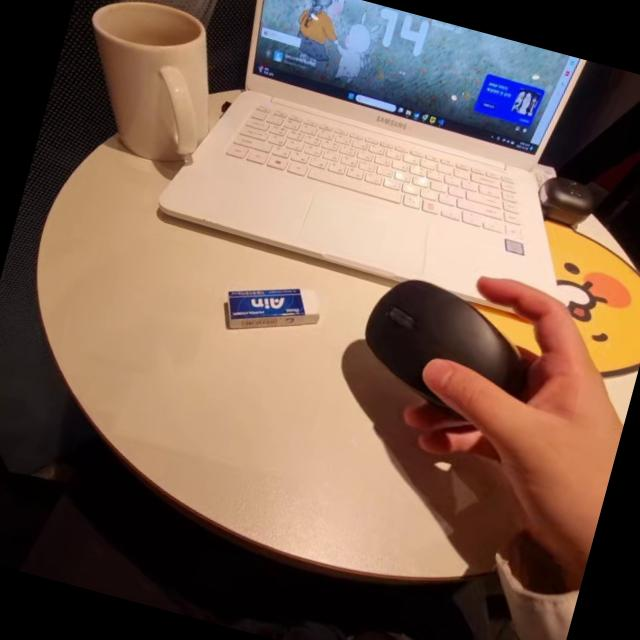eraser: (210, 264, 328, 361)
grab_mouse: (307, 237, 640, 549)
mouse: (326, 256, 550, 454)
